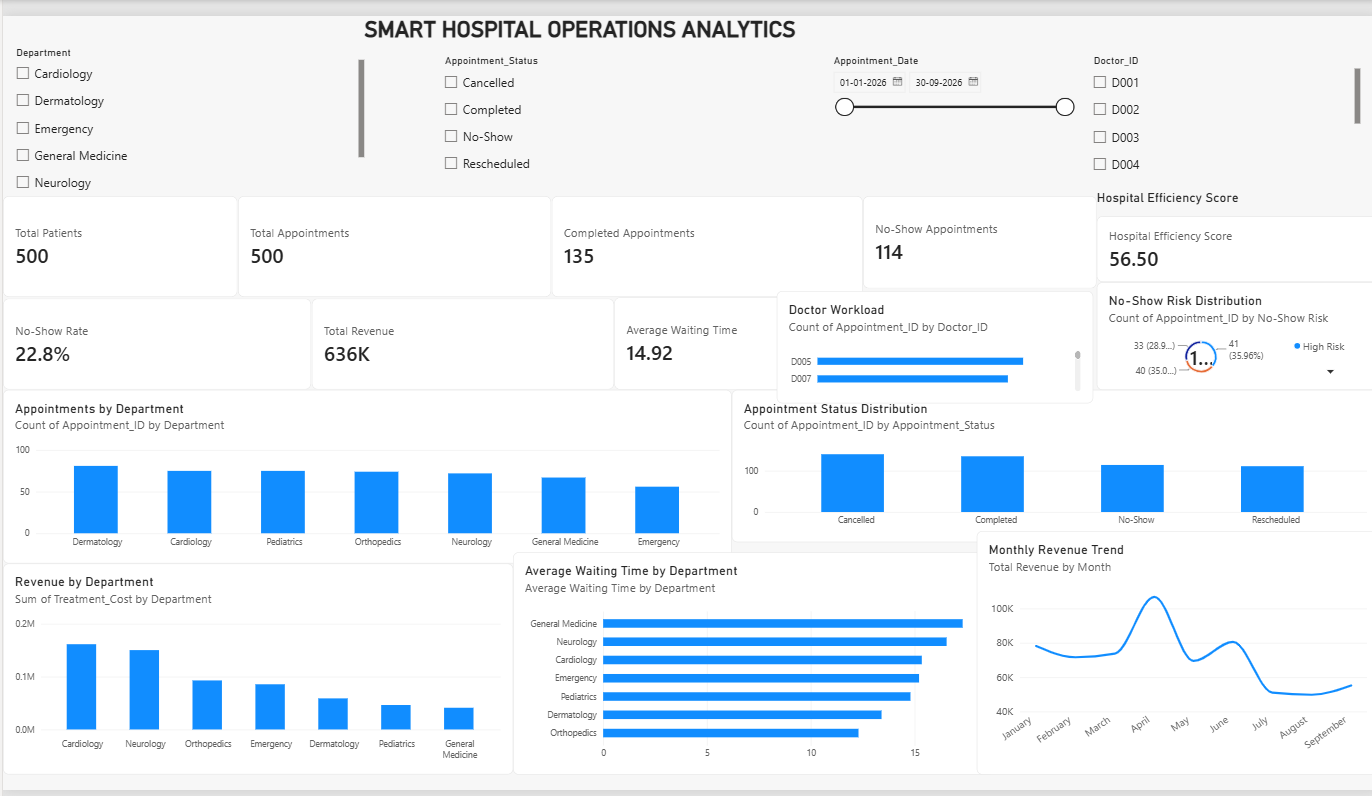

The page's visual inventory and layout, read from the dashboard file:
{"tool":"powerbi","page":{"name":"Page 1","canvas":[1920,1080],"ordinal":0},"visuals":[{"type":"cardVisual","fields":{"Data":["appointments.Total Patients"]},"box":[0,251.2,327.9,141.3],"z":0},{"type":"cardVisual","fields":{"Data":["appointments.Total Appointments"]},"box":[327.9,251.2,437.8,141.3],"z":1},{"type":"cardVisual","fields":{"Data":["appointments.Total Revenue"]},"box":[430.8,394.2,422.1,127.3],"z":2},{"type":"cardVisual","fields":{"Data":["appointments.No-Show Rate"]},"box":[0,394.2,430.8,127.3],"z":3},{"type":"cardVisual","fields":{"Data":["appointments.No-Show Appointments"]},"box":[1200,251.2,326.2,129.1],"z":4},{"type":"cardVisual","fields":{"Data":["appointments.Completed Appointments"]},"box":[765.7,251.2,434.3,141.3],"z":5},{"type":"cardVisual","fields":{"Data":["appointments.Average Waiting Time"]},"box":[852.9,392.4,239,129.1],"z":6},{"type":"clusteredColumnChart","title":"Appointments by Department","fields":{"Category":["appointments.Department"],"Y":["CountNonNull(appointments.Appointment_ID)"]},"box":[0,521.5,1016.9,242.4],"z":8},{"type":"clusteredColumnChart","title":"Appointment Status Distribution","fields":{"Category":["appointments.Appointment_Status"],"Y":["CountNonNull(appointments.Appointment_ID)"]},"box":[1016.9,521.5,903.5,212.8],"z":9},{"type":"clusteredColumnChart","title":"Revenue by Department","fields":{"Category":["appointments.Department"],"Y":["Sum(appointments.Treatment_Cost)"]},"box":[0,764,711.6,294.8],"z":10},{"type":"clusteredBarChart","title":"Average Waiting Time by Department","fields":{"Category":["appointments.Department"],"Y":["appointments.Average Waiting Time"]},"box":[711.6,748.3,671.5,310.5],"z":11},{"type":"lineChart","title":"Monthly Revenue Trend","fields":{"Category":["appointments.Appointment_Date.Variation.Date Hierarchy.Month"],"Y":["appointments.Total Revenue"]},"box":[1358.7,718.6,561.6,340.1],"z":12},{"type":"slicer","fields":{"Values":["appointments.Department"]},"box":[10.5,41.9,493.6,209.3],"z":13},{"type":"slicer","fields":{"Values":["appointments.Appointment_Status"]},"box":[608.7,54.1,280,210],"z":14},{"type":"slicer","fields":{"Values":["appointments.Appointment_Date"]},"box":[1151.2,54.1,347.1,239],"z":15},{"type":"textbox","box":[974,27,280,210],"z":16},{"type":"textbox","box":[1358,27,280,210],"z":17},{"type":"textbox","box":[1648,27,272,210],"z":18},{"type":"textbox","title":"SMART HOSPITAL OPERATIONS ANALYTICS","box":[504.1,0,683.7,251.2],"z":19},{"type":"cardVisual","title":"Hospital Efficiency Score","fields":{"Data":["appointments.Hospital Efficiency Score"]},"box":[1526.2,242.4,394.2,129.1],"z":20},{"type":"donutChart","title":"No-Show Risk Distribution","fields":{"Category":["appointments.No-Show Risk"],"Y":["CountNonNull(appointments.Appointment_ID)"]},"box":[1526.2,371.5,394.2,150],"z":21},{"type":"clusteredBarChart","title":"Doctor Workload","fields":{"Category":["appointments.Doctor_ID"],"Y":["CountNonNull(appointments.Appointment_ID)"]},"box":[1079.7,383.7,441.3,157],"z":22},{"type":"slicer","title":"Revenue by Doctor","fields":{"Values":["appointments.Doctor_ID"]},"box":[1514,54.1,380.2,181.4],"z":23}]}

Visuals, with their boxes on the page's 1920x1080 design canvas (x1, y1, x2, y2). These are canvas units, not pixel positions in the 1372x796 screenshot, which may show the page scaled, cropped or inside an application window:
cardVisual - appointments.Total Patients: [0, 251, 328, 392]
cardVisual - appointments.Total Appointments: [328, 251, 766, 392]
cardVisual - appointments.Total Revenue: [431, 394, 853, 522]
cardVisual - appointments.No-Show Rate: [0, 394, 431, 522]
cardVisual - appointments.No-Show Appointments: [1200, 251, 1526, 380]
cardVisual - appointments.Completed Appointments: [766, 251, 1200, 392]
cardVisual - appointments.Average Waiting Time: [853, 392, 1092, 522]
"Appointments by Department" clusteredColumnChart: [0, 522, 1017, 764]
"Appointment Status Distribution" clusteredColumnChart: [1017, 522, 1920, 734]
"Revenue by Department" clusteredColumnChart: [0, 764, 712, 1059]
"Average Waiting Time by Department" clusteredBarChart: [712, 748, 1383, 1059]
"Monthly Revenue Trend" lineChart: [1359, 719, 1920, 1059]
slicer - appointments.Department: [10, 42, 504, 251]
slicer - appointments.Appointment_Status: [609, 54, 889, 264]
slicer - appointments.Appointment_Date: [1151, 54, 1498, 293]
textbox: [974, 27, 1254, 237]
textbox: [1358, 27, 1638, 237]
textbox: [1648, 27, 1920, 237]
"SMART HOSPITAL OPERATIONS ANALYTICS" textbox: [504, 0, 1188, 251]
"Hospital Efficiency Score" cardVisual: [1526, 242, 1920, 372]
"No-Show Risk Distribution" donutChart: [1526, 372, 1920, 522]
"Doctor Workload" clusteredBarChart: [1080, 384, 1521, 541]
"Revenue by Doctor" slicer: [1514, 54, 1894, 236]
